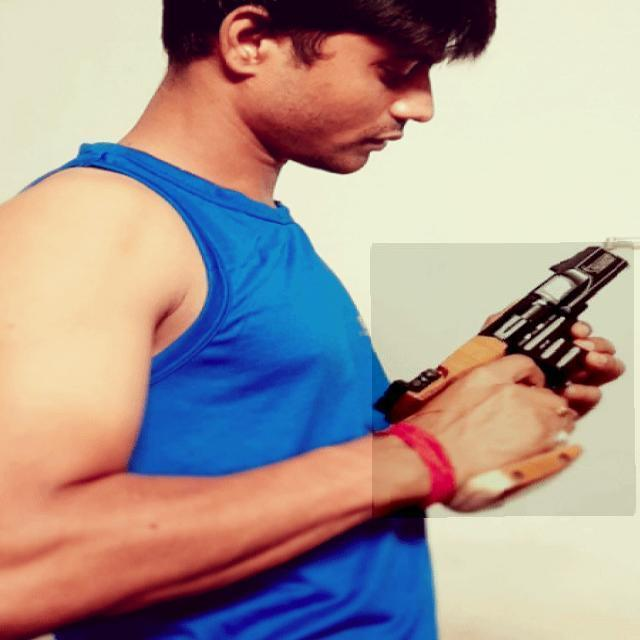handgun: (370, 242, 636, 517)
